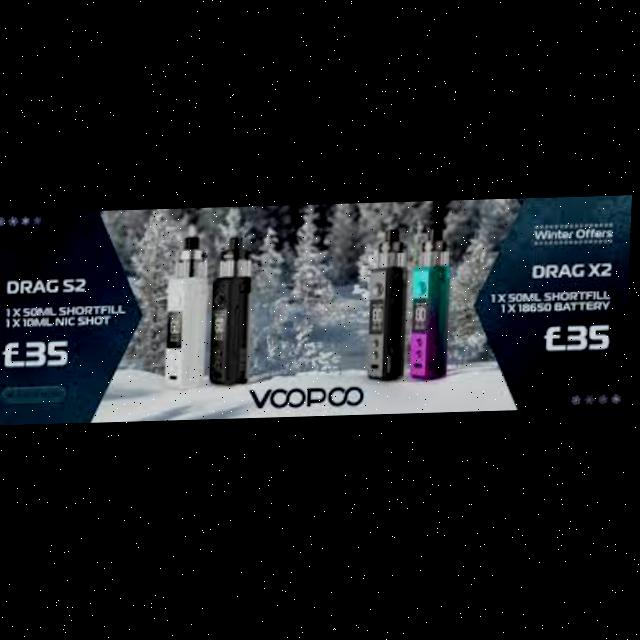vape: (168, 237, 211, 391), (412, 225, 454, 382), (369, 232, 411, 384), (215, 238, 253, 387)
